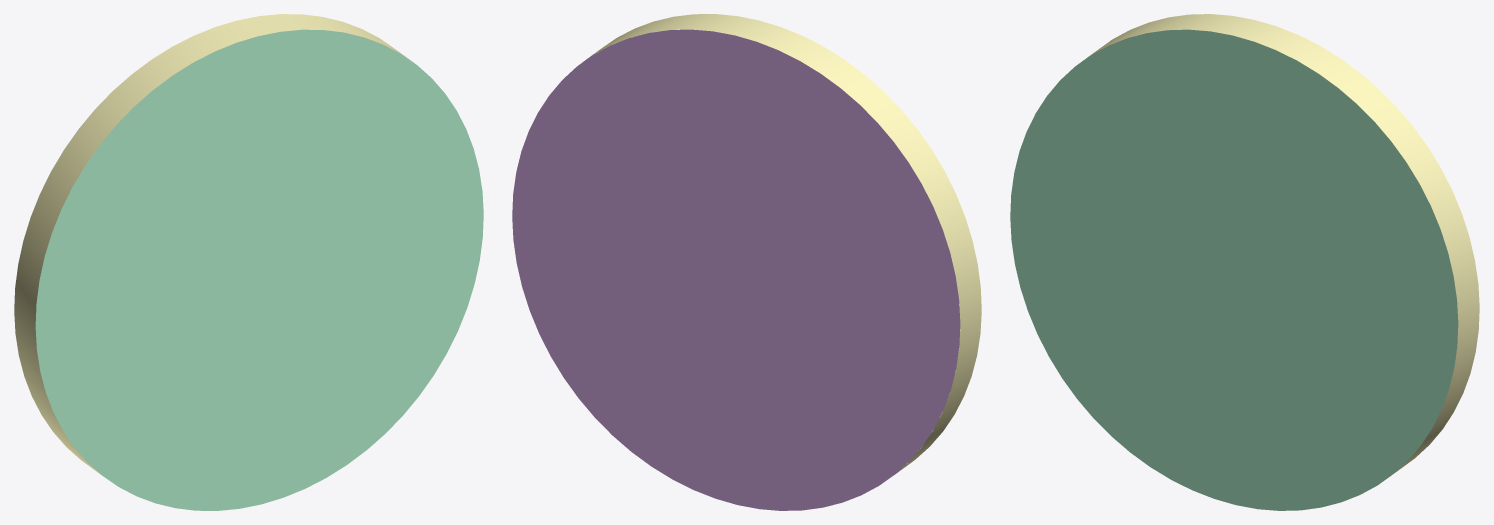
Rendered from coin.gltf.
3 views of the same model, side by side, from view 1: azimuth 30°, elevation 25°; view 2: azimuth 150°, elevation 25°; view 3: azimuth 330°, elevation 25° (orthographic).
Parts seen in each view (by area): view 1: Cylinder_2; view 2: Cylinder_2; view 3: Cylinder_2.
Boxes of the visible parts, x1,y1,x2,y2 form: Cylinder_2: (14, 14, 483, 510); Cylinder_2: (512, 14, 981, 510); Cylinder_2: (1010, 14, 1479, 510).
Bounding box in the file's own units: 0.0605 × 0.0605 × 0.00501.
